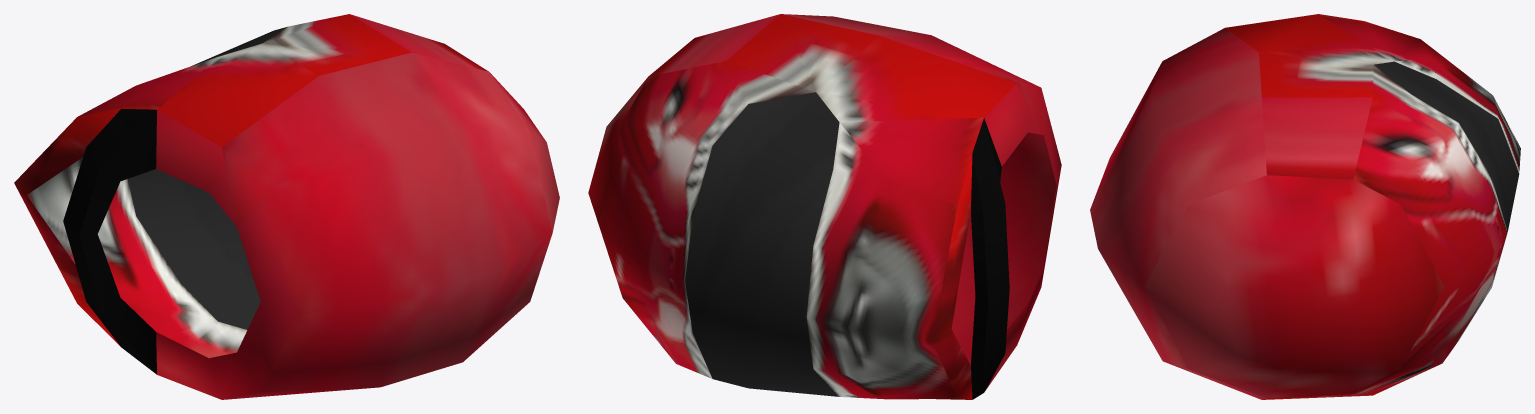
File: CrashHelmetFullPowerRanger.fbx
3 renders of one model, left to right at view 1: azimuth 30°, elevation 25°; view 2: azimuth 150°, elevation 25°; view 3: azimuth 270°, elevation 25°, orthographic. The views are drawn at different scales.
Parts seen in each view (by area): view 1: M_CrashHelmetFULL.022; view 2: M_CrashHelmetFULL.022; view 3: M_CrashHelmetFULL.022.
Boxes of the visible parts, x1,y1,x2,y2 form: M_CrashHelmetFULL.022: (14, 14, 559, 399); M_CrashHelmetFULL.022: (588, 14, 1061, 399); M_CrashHelmetFULL.022: (1090, 14, 1520, 399).
Size of the model in its own units: 0.1955 by 0.1427 by 0.1835.
